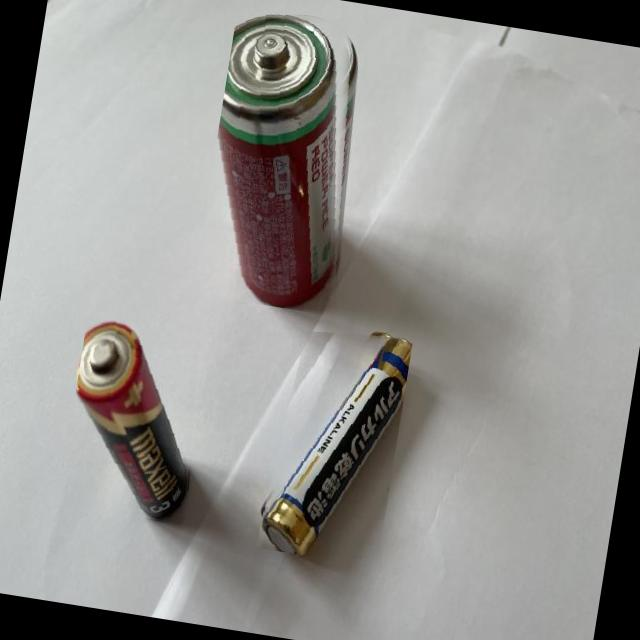Hazard: (191, 0, 378, 315), (253, 316, 412, 566), (56, 315, 212, 524)
